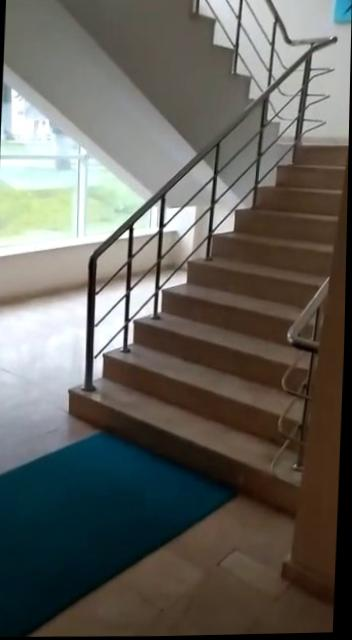Bench: (159, 77, 314, 489)
